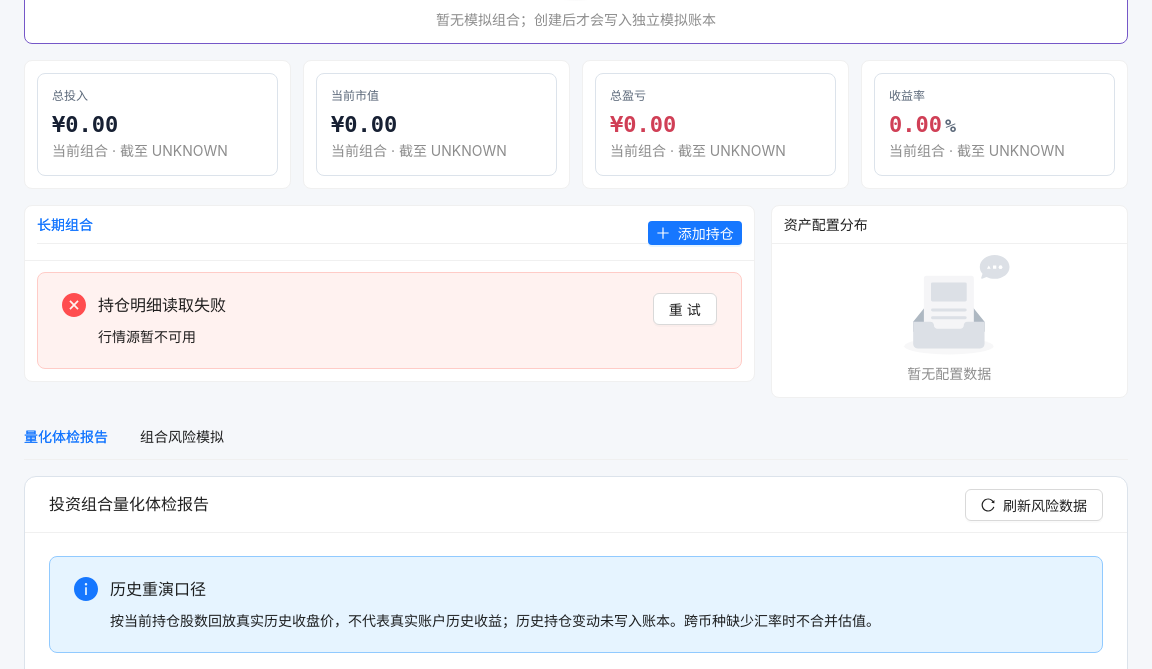
Test case: Portfolio holdings read state › shows a read error instead of empty and retry really reloads holdings
(page scrolled)
Expected: the text "持仓明细读取失败" is shown, [98,295,226,315]
Expected: the text "行情源暂不可用" is shown, [98,328,196,345]
Click the button "重 试". click: (685, 309)
box: [653,293,717,325]
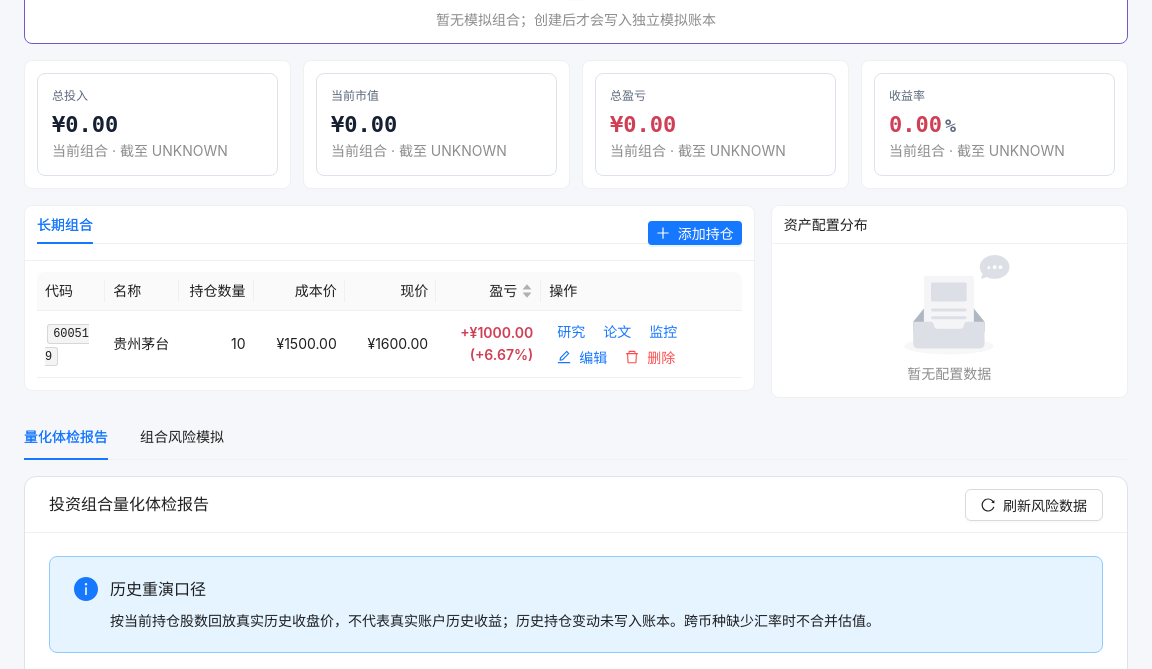
Expected: the text "600519" is shown, [45,324,89,366]
Expected: the text "持仓明细读取失败" is gone
